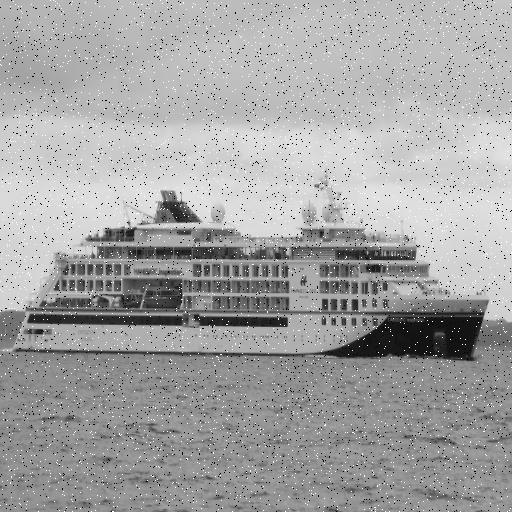cruises: (9, 176, 494, 367)
